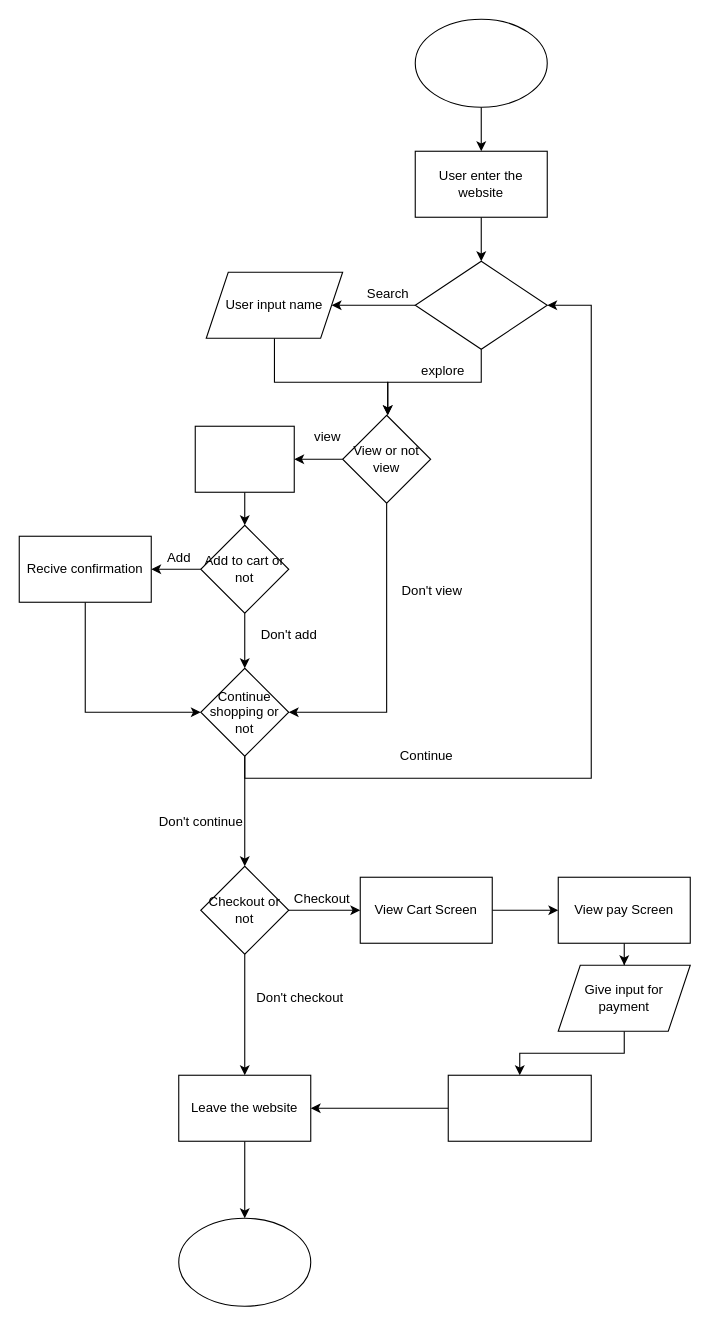
Some shapes in this 710 by 1326 pixel diagram are drawn without their labels. Here are the shapes that lost their labels. From the top down, the box of each, then its label:
(414, 18, 547, 107): start
(414, 260, 547, 349): Search or explore
(194, 425, 294, 492): Open the product page
(447, 1074, 591, 1141): View order of confirmation, and recieve email
(178, 1217, 311, 1306): End
